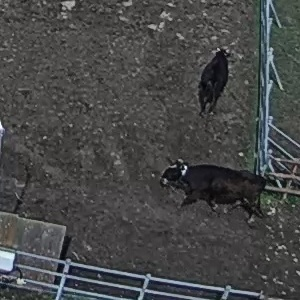cow: (150, 156, 277, 212), (179, 37, 248, 115)
